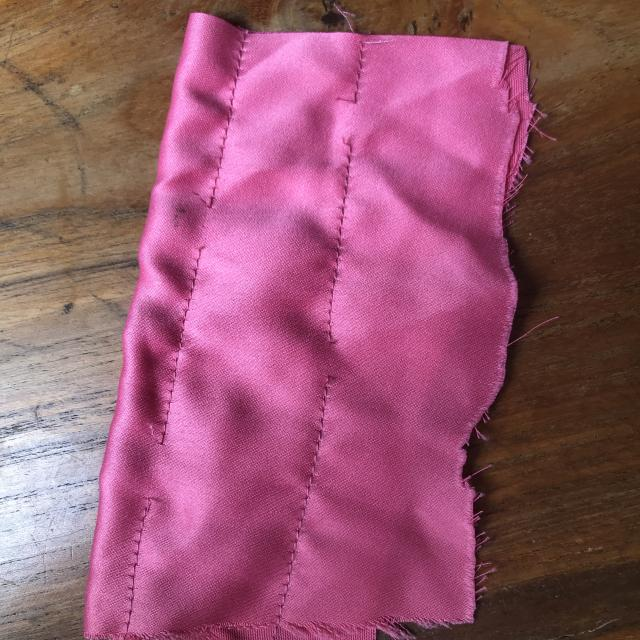broken: (325, 85, 387, 164), (180, 176, 233, 262)
